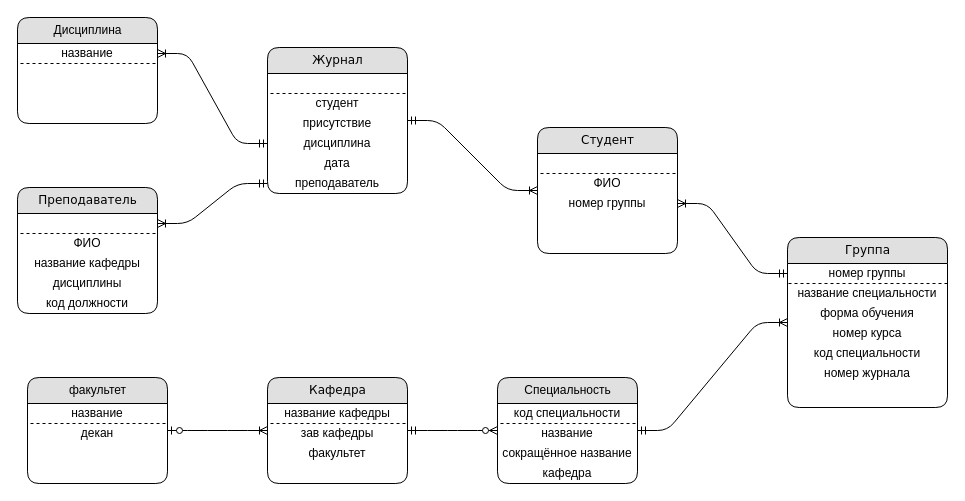
Image size: 965x501. Some labels were removed from this diagram. Here are the shapes that lost their labels. From the top down, the centre of each, then its label:
pixel 337 83: номер
pixel 607 163: номер зачётки
pixel 87 223: номер паспорта
